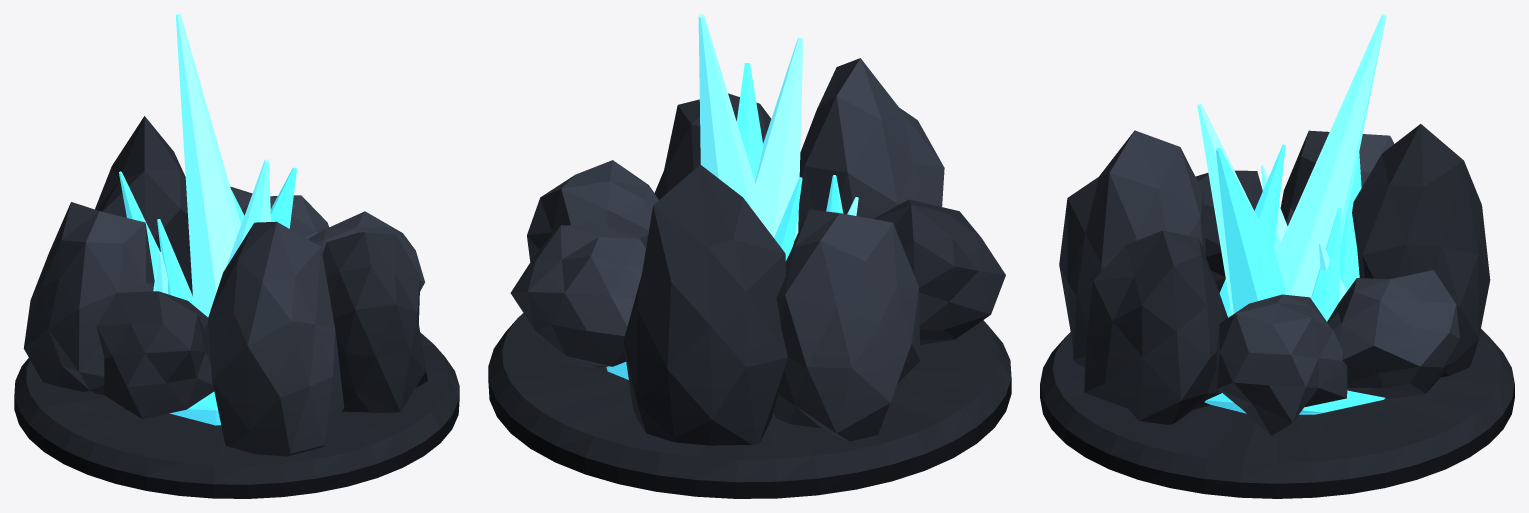
Rendered from crystal-geode.glb.
3 views of the same model, side by side, from view 1: azimuth 30°, elevation 25°; view 2: azimuth 150°, elevation 25°; view 3: azimuth 270°, elevation 25° (orthographic). The views are drawn at different scales.
Bounding box in the file's own units: 3.4 × 3 × 3.4.
